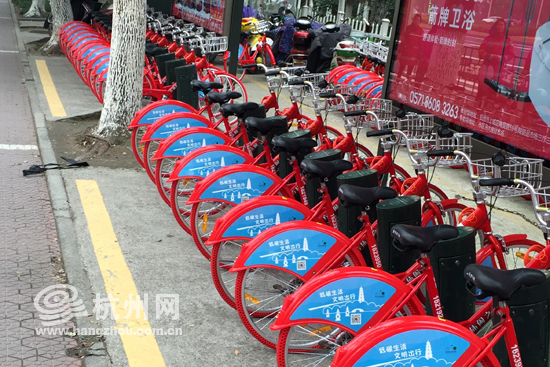MNV: (170, 93, 391, 255)
